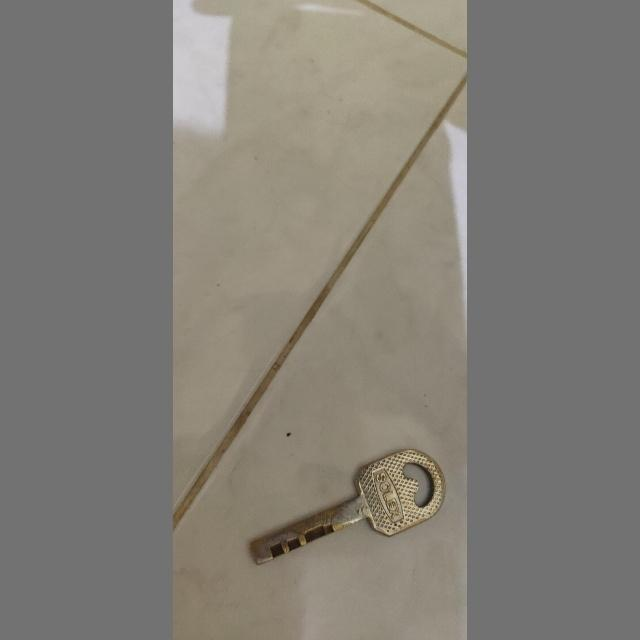Keys: (250, 443, 450, 569)
